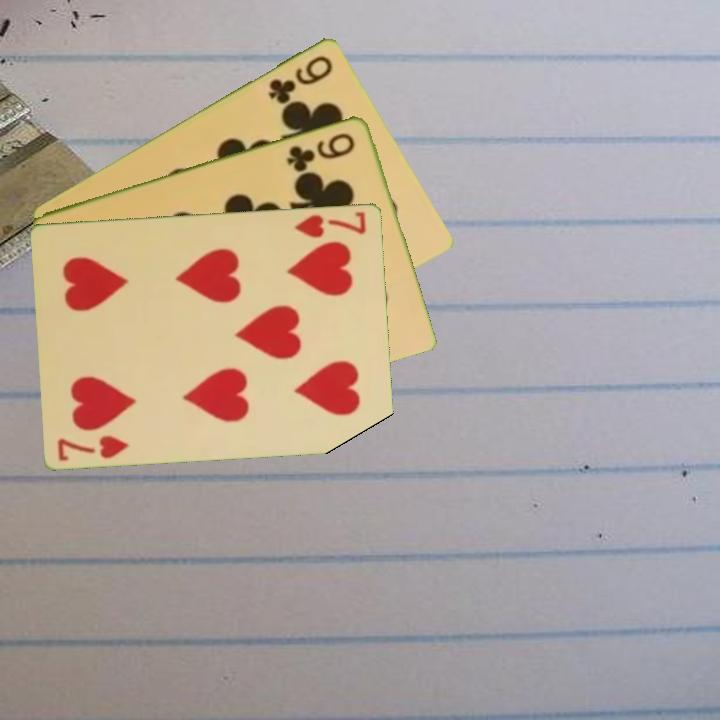7h: (291, 208, 369, 240), (54, 432, 132, 464)
9c: (265, 51, 336, 106), (283, 128, 358, 172)
